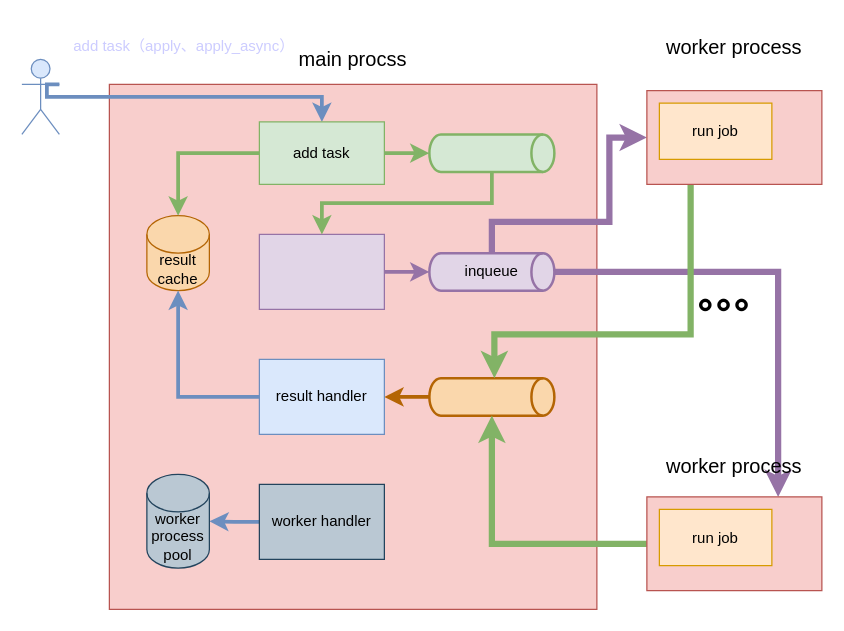
Some shapes in this 844 by 631 pixel diagram are drawn without their labels. Each missing label, with the box of its shape:
Actor: (21, 58, 59, 134)
outqueue: (428, 376, 555, 416)
task handler: (258, 233, 384, 309)
task queue: (428, 132, 555, 172)
